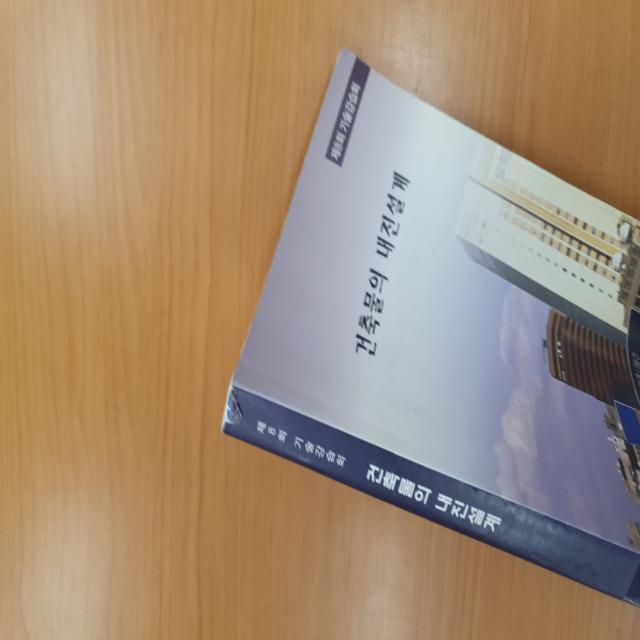Ripped: (221, 386, 247, 429)
Wornout: (239, 319, 256, 359), (331, 43, 349, 72), (217, 422, 227, 439)
